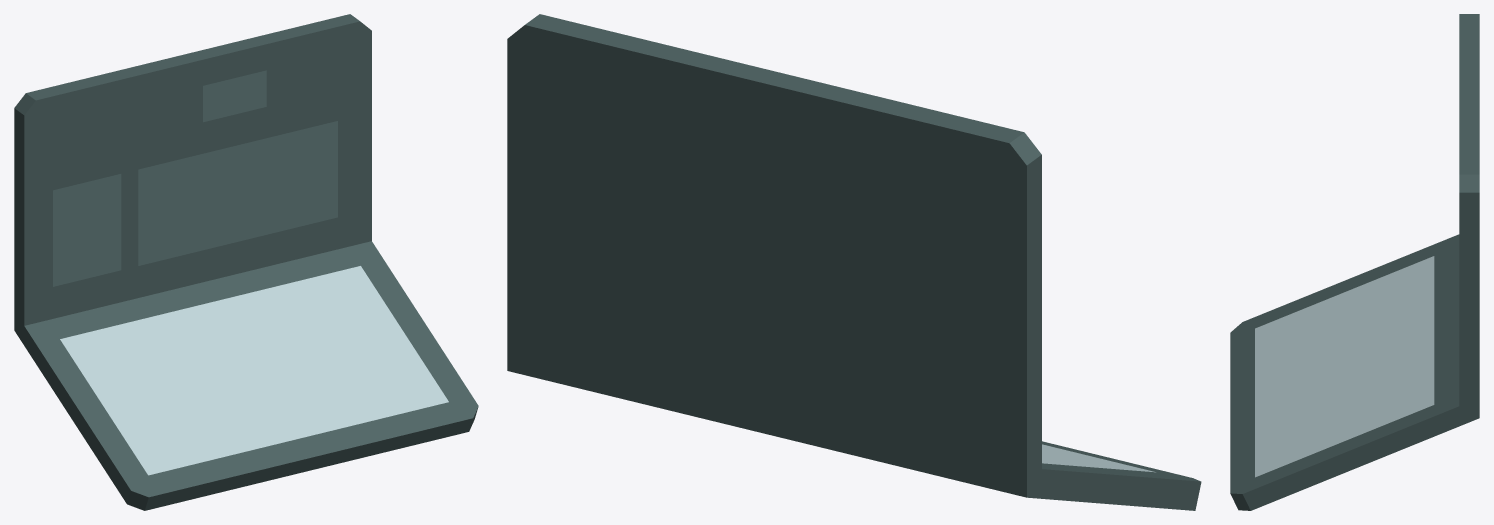
The model's file is laptop.obj.
The picture shows the model from 3 angles, left to right: view 1: azimuth 30°, elevation 25°; view 2: azimuth 150°, elevation 25°; view 3: azimuth 270°, elevation 25°; orthographic projection. The views are drawn at different scales.
Visible parts, largest first — view 1: laptop; view 2: laptop; view 3: laptop.
Part boxes in pixels (left/top/right/bottom): laptop: left=14, top=14, right=478, bottom=510; laptop: left=507, top=14, right=1201, bottom=510; laptop: left=1230, top=14, right=1479, bottom=510.
Size of the model in its own units: 0.528 by 0.4801 by 0.3236.
